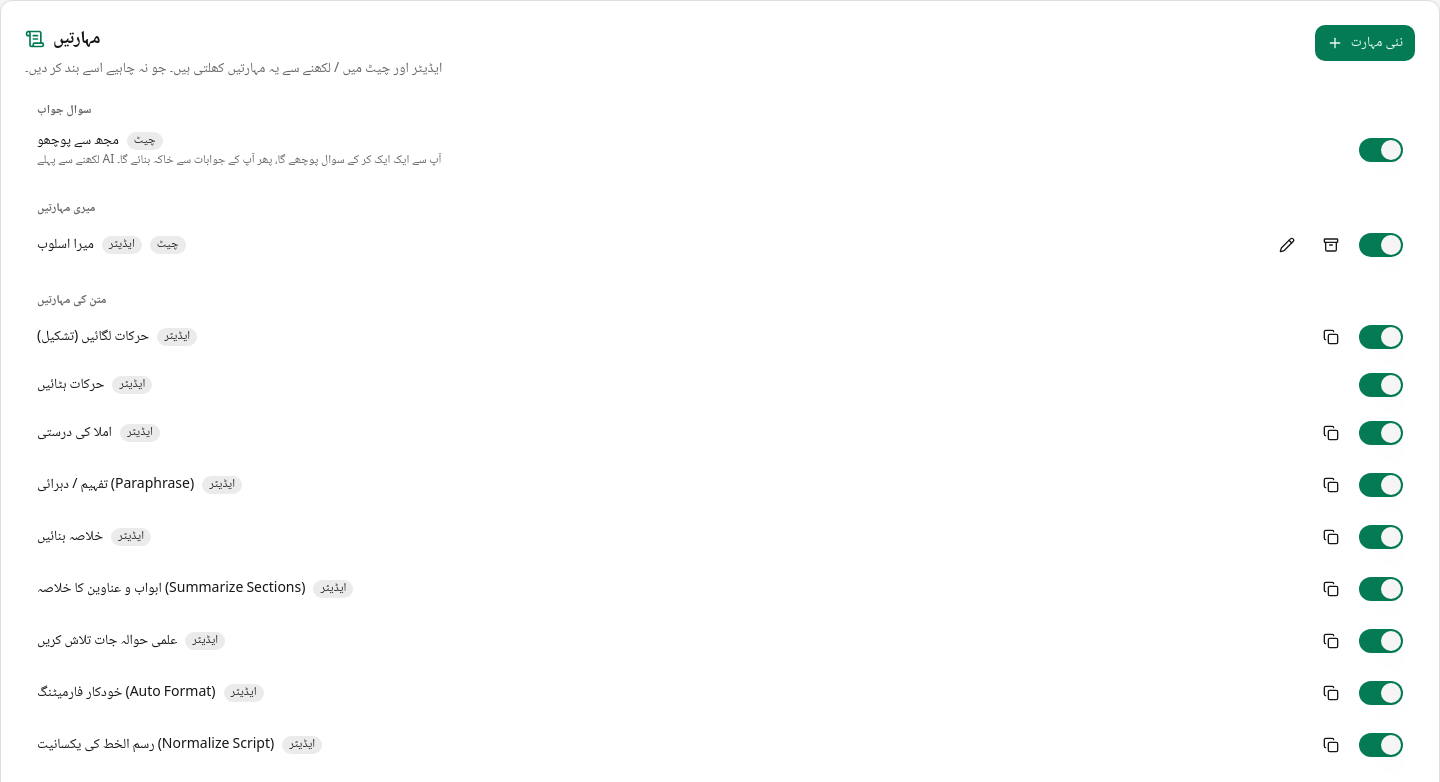
SkillsPanel › hides a non-playbook skill on this device
What coordinates should you click on to do the following:
click the switch named "مجھ سے پوچھو"
I would click on:
 (1381, 150)
Its box is 1359,138 -> 1403,162.
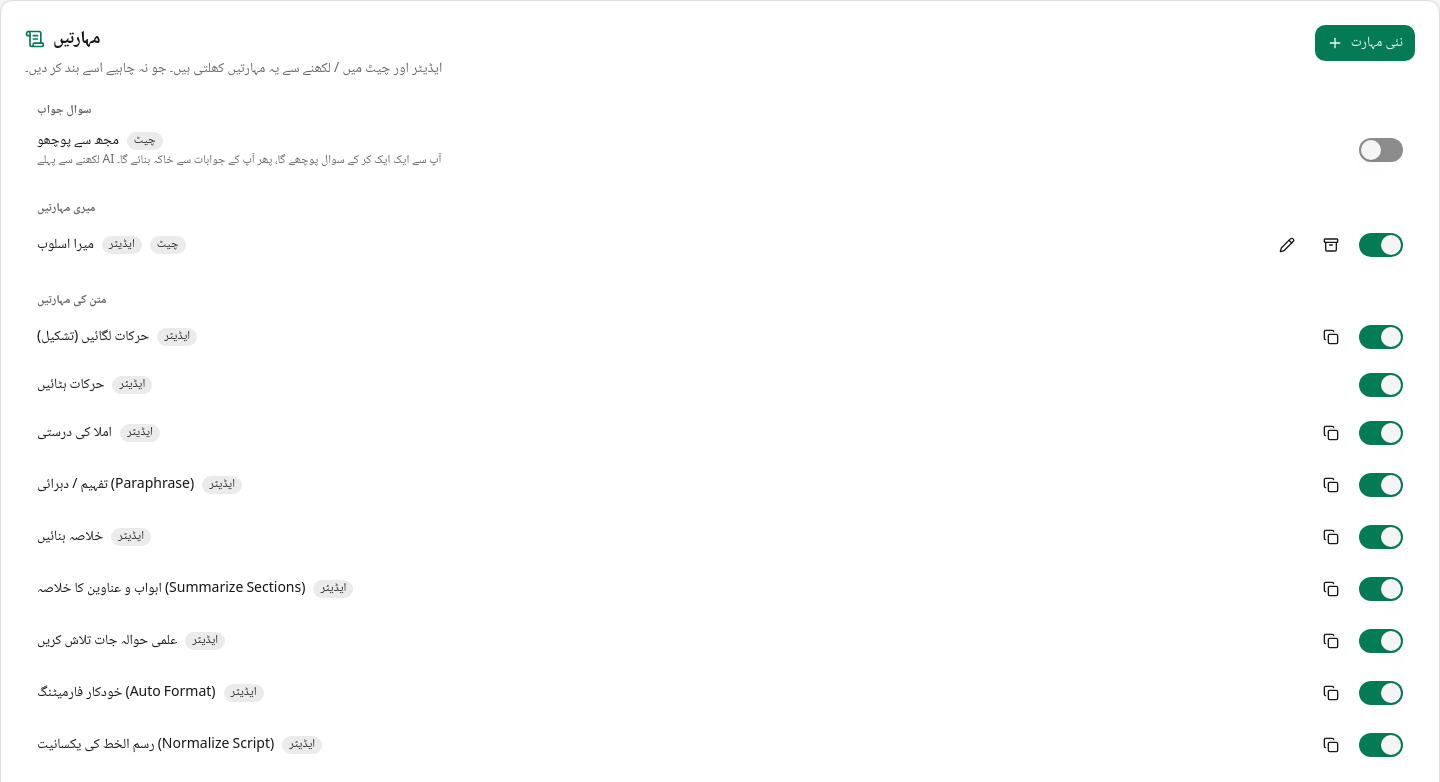
Result: the switch named "مجھ سے پوچھو" is not checked at 1359,138 -> 1403,162
